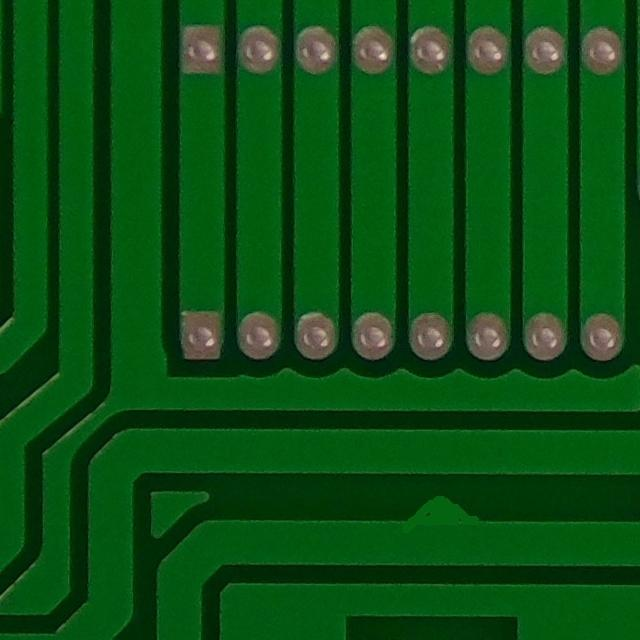spur: (386, 481, 493, 550)
